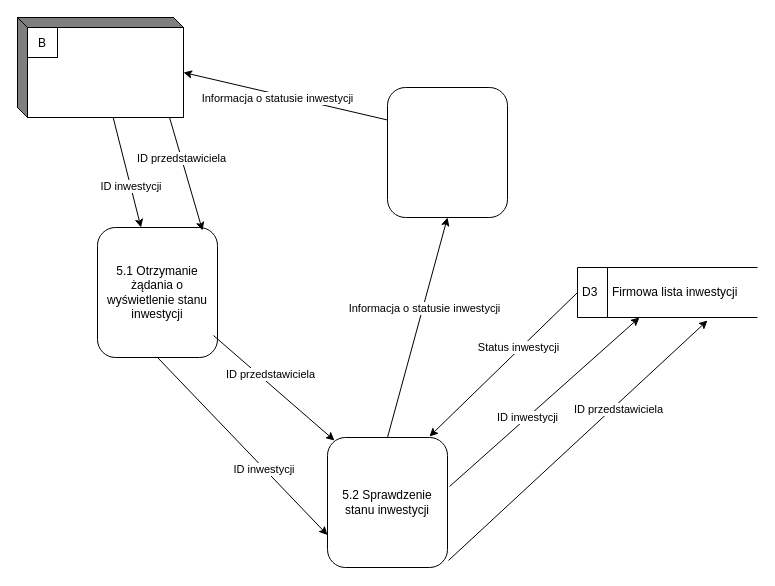
Image size: 775x586. Some labels were removed from this diagram. Each missing label, with the box of its shape:
5.3 Wyświetlenie statusu inwestycji: (386, 86, 508, 218)
Dyrektor Regionalny: (16, 16, 184, 118)
